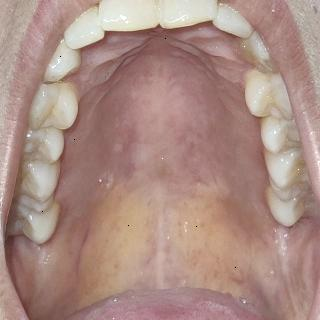UL1BC_healthy: (244, 69, 294, 119)
UL1M_mdecay: (264, 152, 313, 199)
UL2BC_healthy: (261, 116, 303, 153)
UL2M_mdecay: (264, 185, 312, 227)
ULCI_healthy: (160, 1, 218, 28)
ULCI_sdecay: (242, 31, 280, 73)
UR1BC_healthy: (29, 84, 78, 130)
UR1M_healthy: (18, 162, 61, 211)
UR2BC_mdecay: (23, 130, 64, 163)
UR2M_healthy: (8, 204, 58, 245)
URCI_healthy: (98, 1, 159, 31)
URC_healthy: (44, 40, 81, 82)
URLI_healthy: (63, 6, 104, 49), (213, 3, 253, 39)
